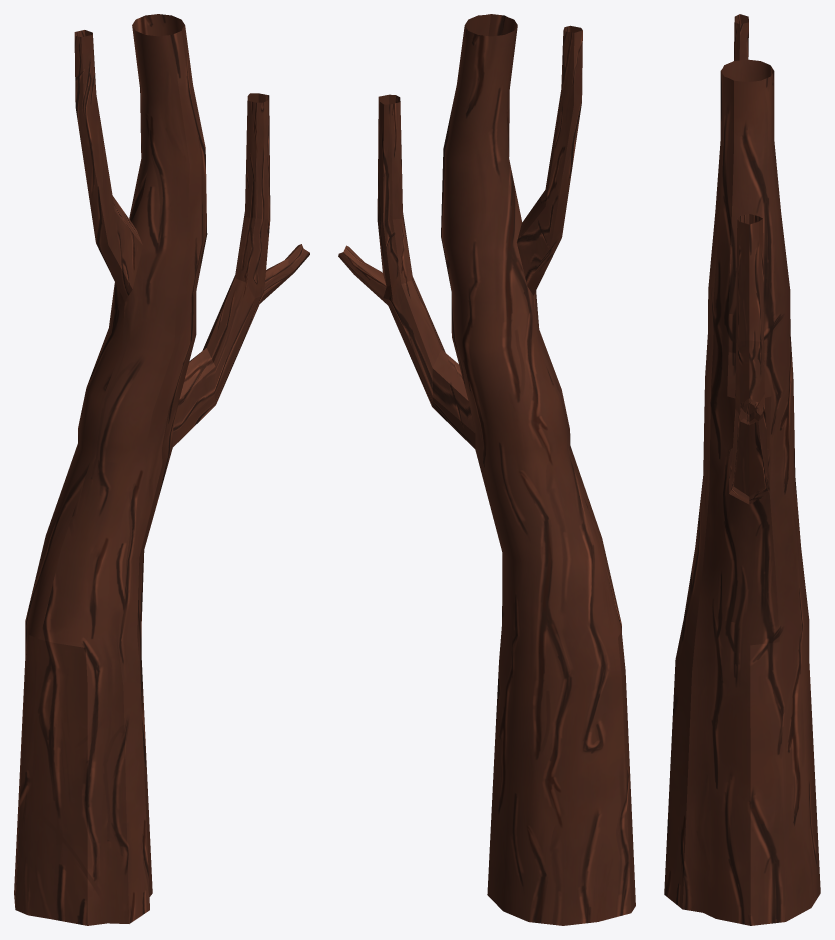
The model's file is Dead Tree.FBX.
3 views of the same model, side by side, from view 1: azimuth 30°, elevation 25°; view 2: azimuth 150°, elevation 25°; view 3: azimuth 270°, elevation 25° (orthographic).
Parts seen in each view (by area): view 1: Cylinder001; view 2: Cylinder001; view 3: Cylinder001.
Boxes of the visible parts, bbox=[...] form: Cylinder001: bbox=[14, 14, 309, 925]; Cylinder001: bbox=[338, 14, 635, 925]; Cylinder001: bbox=[664, 14, 820, 925].
Bounding box in the file's own units: 11.09 × 31.36 × 5.1.
